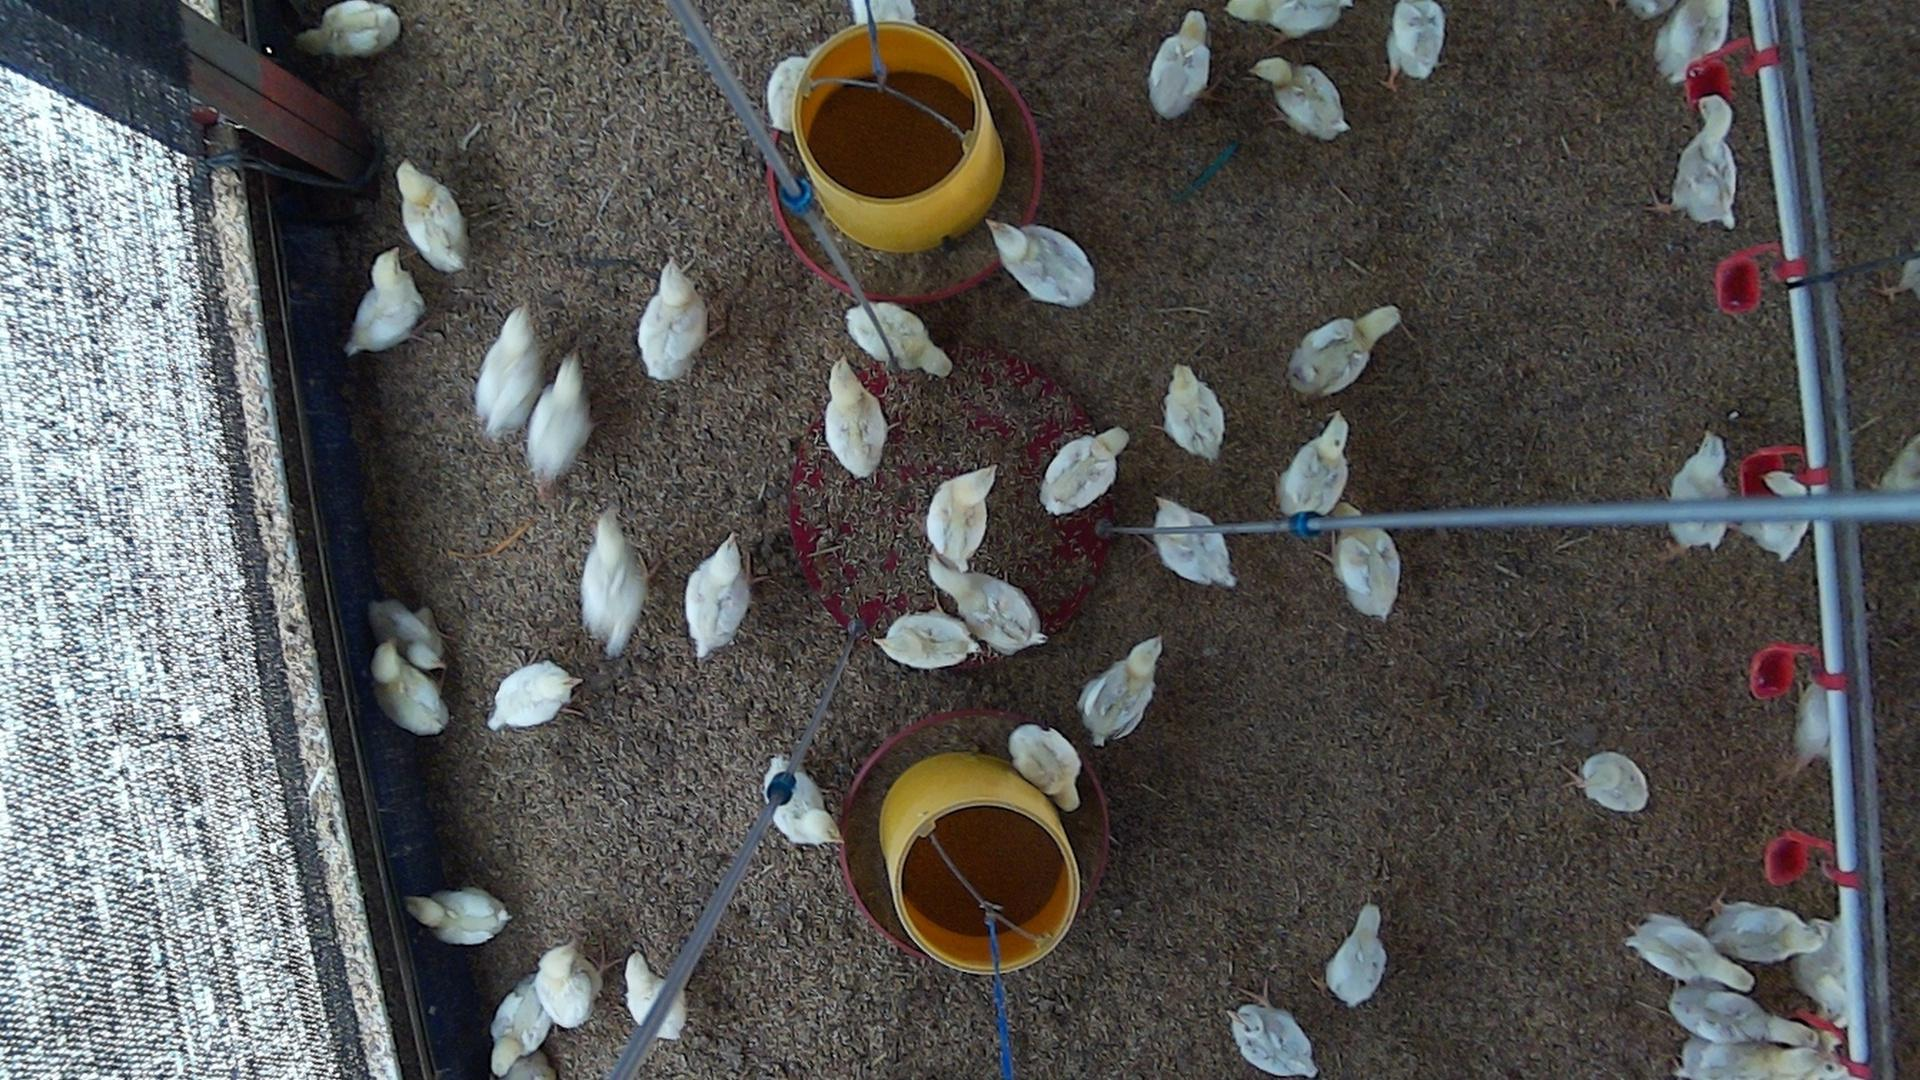ayam_broiler: (1288, 307, 1402, 397), (936, 564, 1047, 655), (1626, 914, 1751, 992), (582, 508, 645, 657), (1671, 986, 1821, 1048), (476, 305, 542, 442), (1080, 638, 1160, 749), (1672, 96, 1739, 228), (1795, 890, 1859, 1025), (993, 223, 1096, 307), (526, 355, 591, 485), (638, 258, 707, 381), (347, 251, 423, 356), (686, 538, 752, 659), (1250, 59, 1346, 141), (1040, 429, 1129, 514), (851, 303, 951, 378), (398, 162, 467, 272), (1276, 413, 1348, 517), (1668, 434, 1726, 560), (926, 469, 994, 576), (825, 360, 886, 479), (1705, 901, 1821, 963), (373, 644, 448, 735), (1230, 1002, 1317, 1080), (1150, 9, 1211, 120), (1669, 985, 1780, 1046), (1655, 0, 1730, 86), (1672, 1038, 1824, 1080), (770, 757, 841, 845), (1333, 527, 1400, 620), (1009, 725, 1080, 810), (1327, 906, 1385, 1007), (881, 611, 980, 670), (491, 662, 578, 728), (1164, 365, 1224, 462), (491, 982, 549, 1079), (410, 890, 509, 945), (301, 1, 400, 57), (535, 943, 597, 1029), (371, 600, 444, 670), (626, 953, 684, 1042), (1578, 752, 1650, 815), (1389, 0, 1445, 79), (1151, 538, 1237, 589), (1232, 0, 1346, 37)
